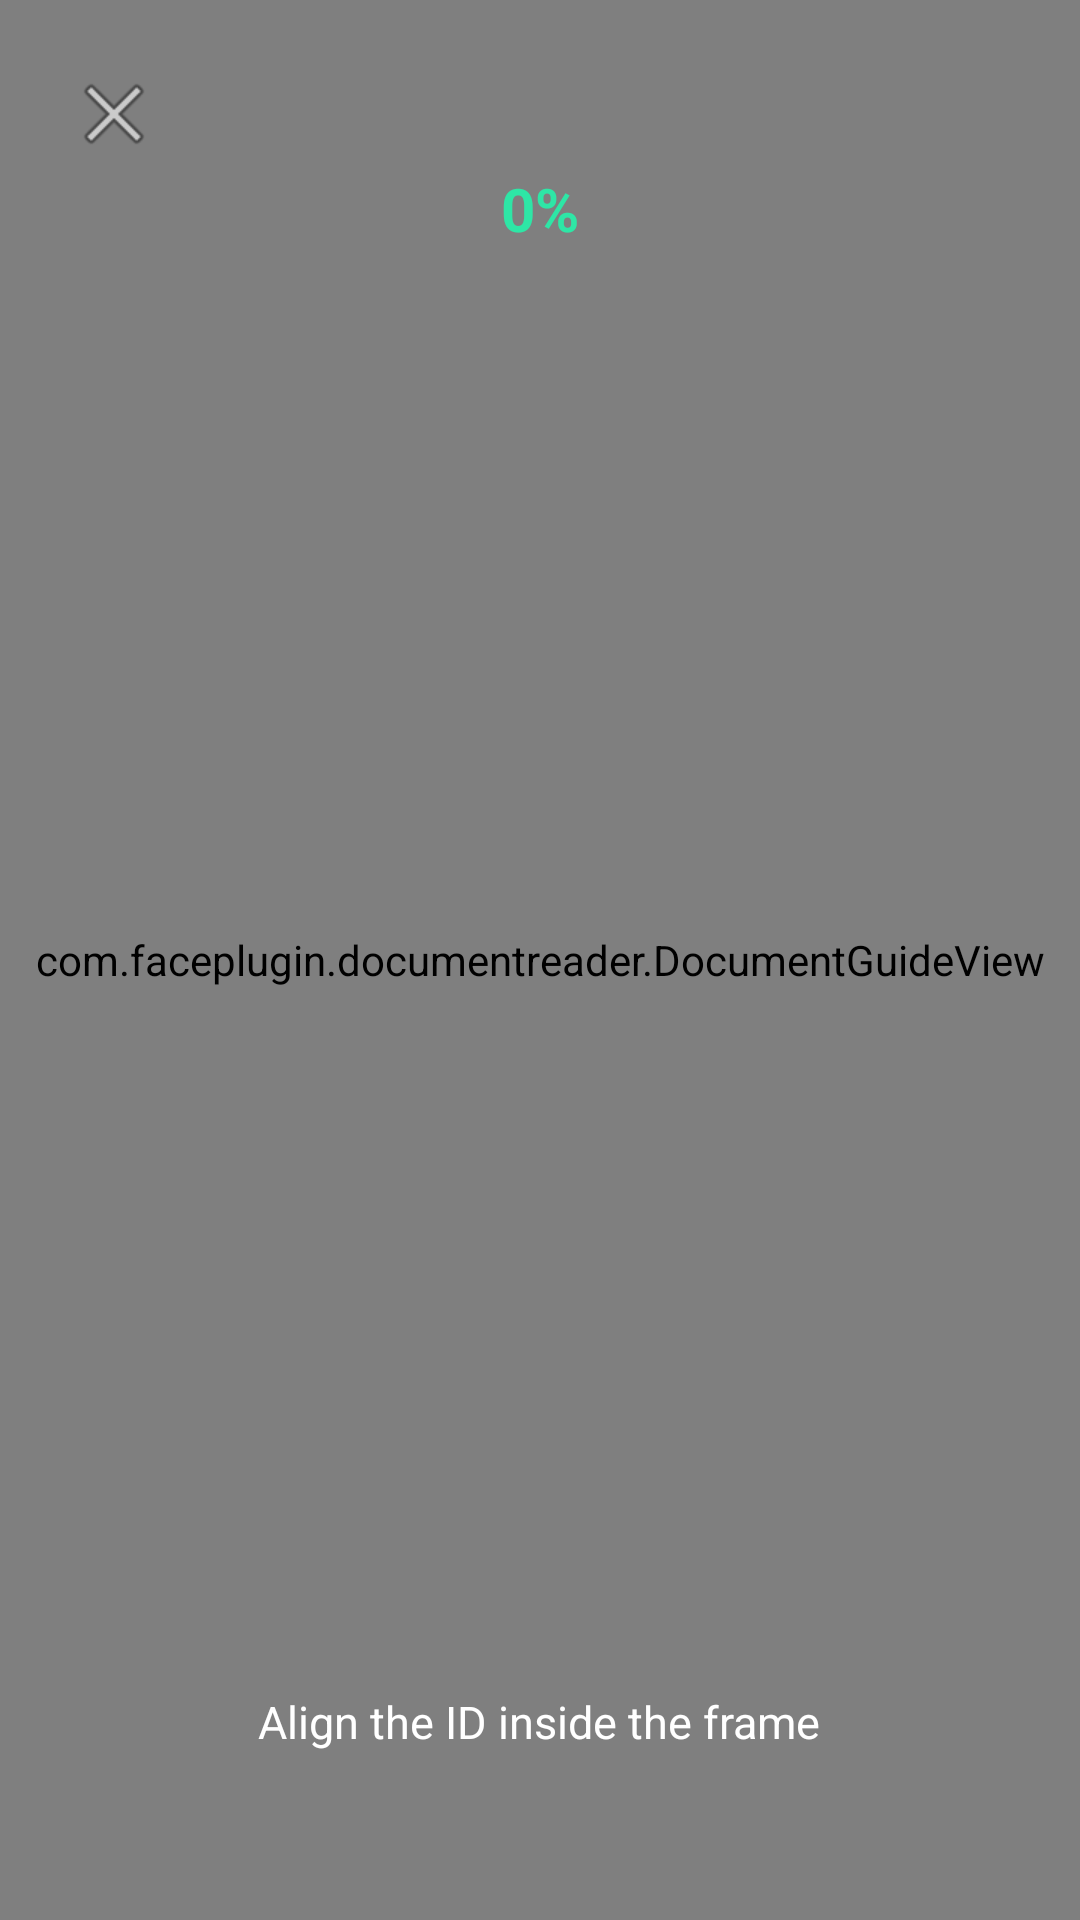

Icon click points for this 1080w x 1920h phone screenshot, format [x,y]:
Close: [114,114]
